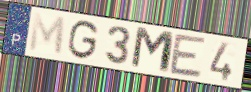3: (103, 25, 134, 66)
4: (208, 39, 235, 82)
E: (168, 32, 209, 80)
G: (66, 19, 101, 62)
M: (129, 25, 177, 76), (27, 11, 67, 58)
